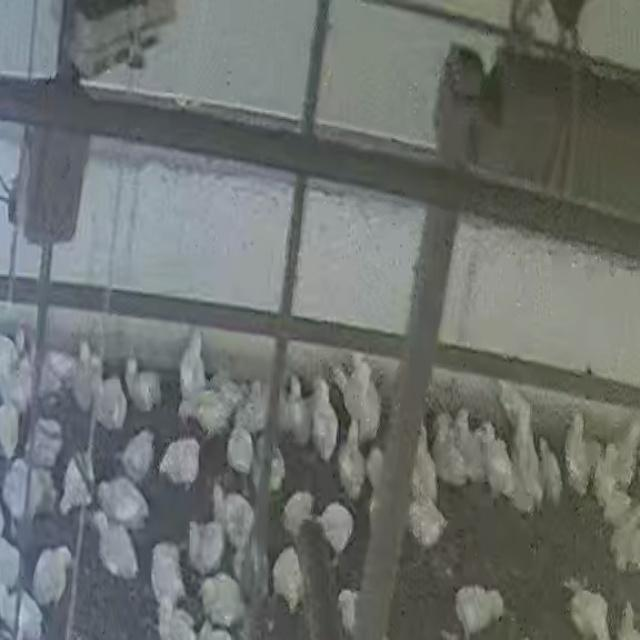chicken: (334, 363, 383, 444), (509, 418, 547, 505), (92, 514, 136, 579), (561, 584, 608, 640), (456, 587, 504, 640), (479, 423, 510, 504), (605, 507, 640, 576), (177, 393, 225, 440), (199, 574, 242, 626), (568, 412, 595, 493), (431, 416, 461, 488), (97, 485, 149, 525), (409, 489, 442, 552), (124, 359, 161, 414), (214, 489, 249, 547), (35, 548, 73, 601), (448, 412, 477, 480), (275, 548, 306, 610), (337, 424, 363, 496), (92, 378, 131, 425), (152, 543, 183, 602), (118, 433, 158, 478), (0, 587, 39, 633), (159, 444, 201, 486), (29, 415, 64, 465), (312, 380, 334, 459), (320, 501, 351, 557), (71, 347, 102, 402), (411, 427, 434, 501), (59, 463, 92, 513), (175, 335, 205, 390), (286, 376, 309, 447), (186, 527, 224, 569), (3, 463, 33, 516), (539, 439, 561, 505), (156, 603, 194, 640), (225, 427, 253, 477), (592, 448, 618, 498), (0, 530, 22, 587), (282, 493, 310, 534), (0, 401, 19, 455), (605, 498, 630, 525)
